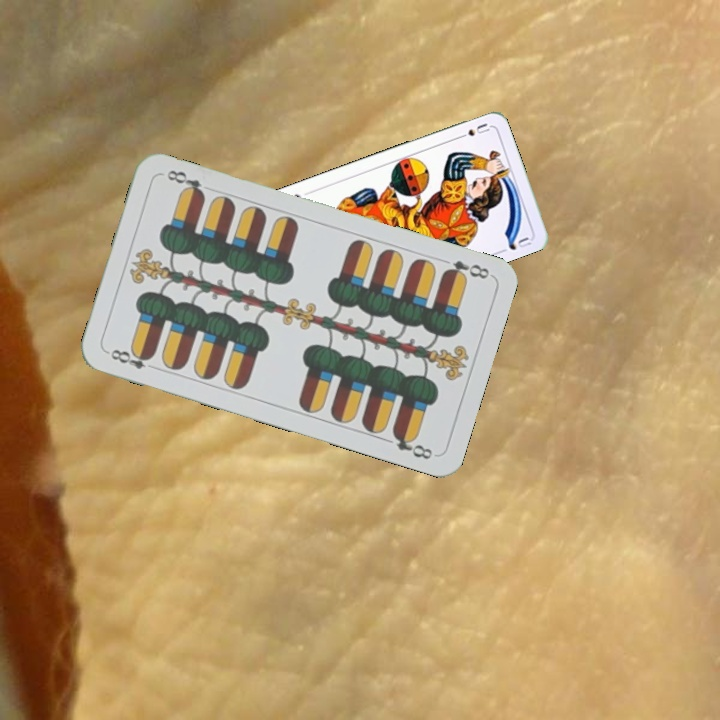E8: (103, 345, 156, 372), (439, 256, 492, 283)
SU: (453, 119, 492, 142)
